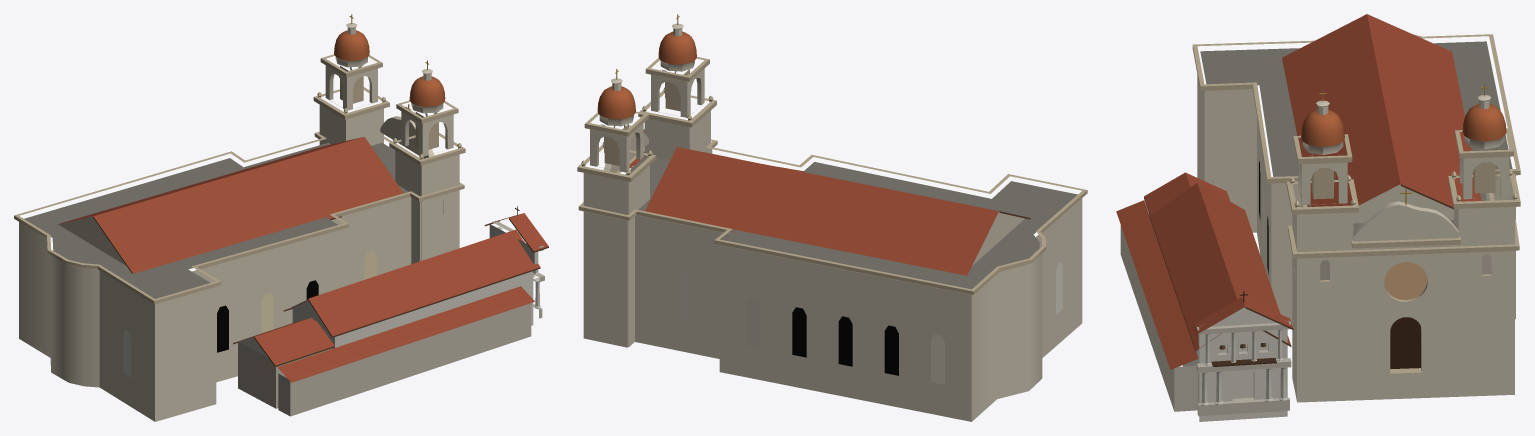
The model's file is missionDolores_lod1.glb.
3 views of the same model, side by side, from view 1: azimuth 30°, elevation 25°; view 2: azimuth 150°, elevation 25°; view 3: azimuth 270°, elevation 25° (orthographic). The views are drawn at different scales.
Visible parts, largest first — view 1: L1_stucco, L1_rooftile, L1_roof, L1_win, L1_paint, L1_wood; view 2: L1_stucco, L1_rooftile, L1_roof, L1_win, L1_paint; view 3: L1_stucco, L1_rooftile, L1_roof, L1_paint, L1_wood, L1_win.
Boxes of the visible parts, x1,y1,x2,y2 form: L1_stucco: (14,23,544,421); L1_rooftile: (55,137,548,382); L1_roof: (24,142,408,298); L1_win: (123,250,376,377); L1_paint: (334,30,445,106); L1_wood: (93,206,548,366); L1_stucco: (577,23,1087,421); L1_rooftile: (629,129,1025,275); L1_roof: (625,152,1077,289); L1_win: (676,262,1062,384); L1_paint: (597,31,696,119); L1_stucco: (1120,34,1520,421); L1_rooftile: (1116,14,1481,369); L1_roof: (1200,41,1512,232); L1_paint: (1301,104,1506,146); L1_wood: (1144,184,1453,368); L1_win: (1259,161,1491,299).
Size of the model in its own units: 67.92 by 37.5 by 45.87.
